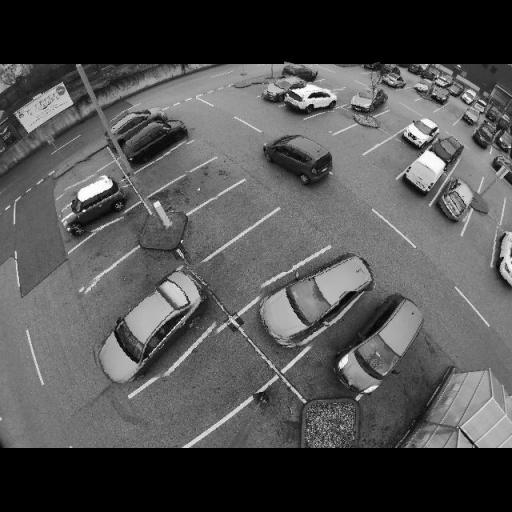busy: (86, 266, 220, 382), (256, 236, 381, 352), (339, 292, 432, 390), (60, 173, 128, 235), (266, 132, 337, 186), (123, 120, 187, 163), (400, 146, 451, 192), (107, 108, 163, 138), (489, 225, 512, 294), (438, 177, 474, 221), (286, 84, 336, 112), (397, 118, 440, 148), (344, 86, 387, 116), (262, 79, 306, 102), (430, 133, 464, 160), (282, 63, 316, 81), (471, 125, 495, 147), (382, 73, 408, 90), (458, 109, 478, 128), (494, 130, 510, 152), (427, 90, 450, 104), (410, 81, 430, 97), (460, 92, 474, 105), (363, 63, 381, 71)
free: (178, 364, 241, 408), (237, 235, 293, 272), (106, 264, 155, 298), (226, 423, 288, 447), (212, 198, 257, 226), (182, 174, 221, 198), (100, 227, 134, 251), (161, 154, 191, 176), (468, 218, 497, 240), (479, 186, 505, 210), (346, 130, 378, 148), (73, 156, 98, 178), (379, 149, 405, 168), (458, 168, 480, 184), (438, 107, 461, 122), (249, 79, 268, 97), (323, 112, 346, 126), (339, 87, 359, 102), (456, 124, 477, 136), (382, 115, 402, 127), (418, 96, 436, 109), (320, 80, 338, 92), (404, 88, 418, 101)
